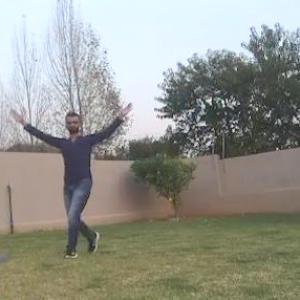takeoff: (13, 100, 132, 261)
